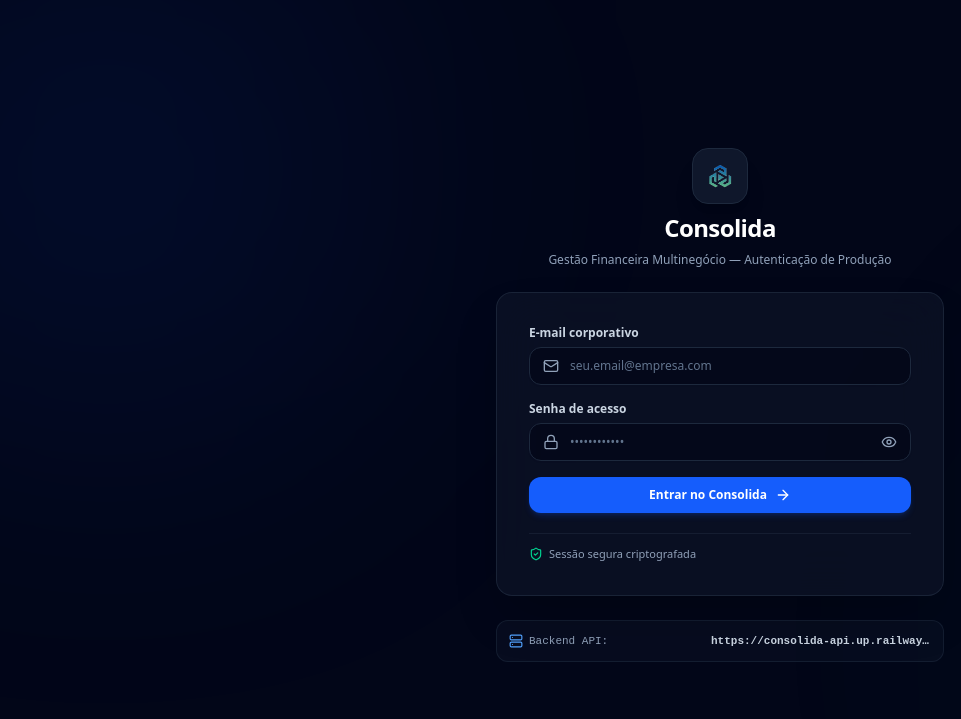
Auditoria Técnica — Testes de Cenários Negativos (Seção 6) › 4. Cenário Negativo: API Indisponível (erro de rede/timeout) deve exibir feedback amigável sem quebrar
Type "user@empresa.com" into the field with placeholder "seu.email@empresa.com" at (720, 366), box x1=529 y1=347 x2=911 y2=385
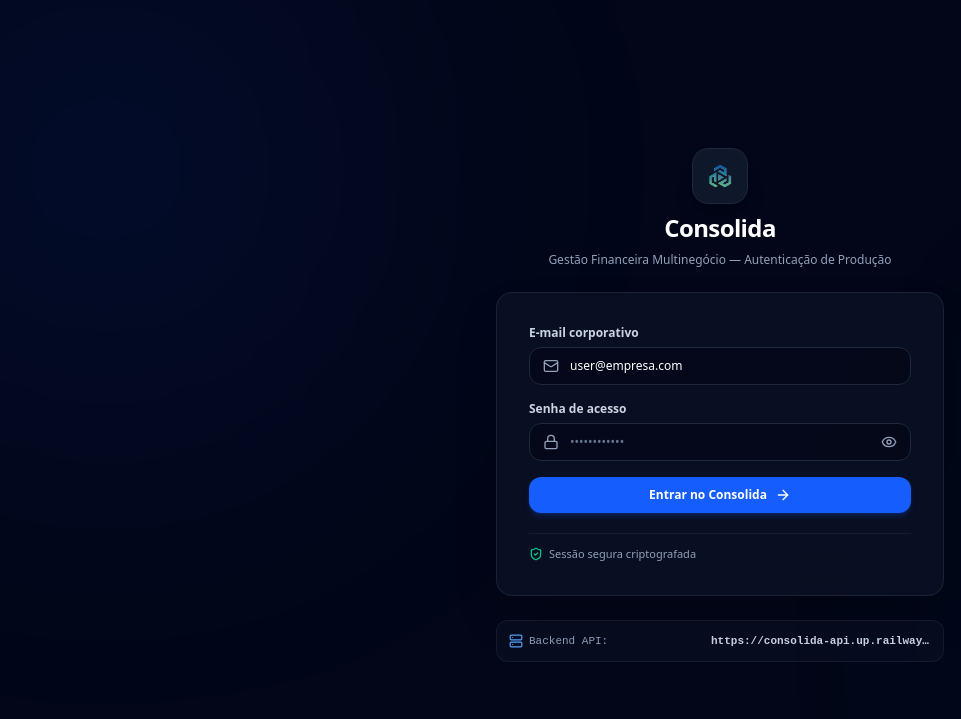
Type "senha123" into the password field with placeholder "••••••••••••" at (720, 442), box x1=529 y1=423 x2=911 y2=461
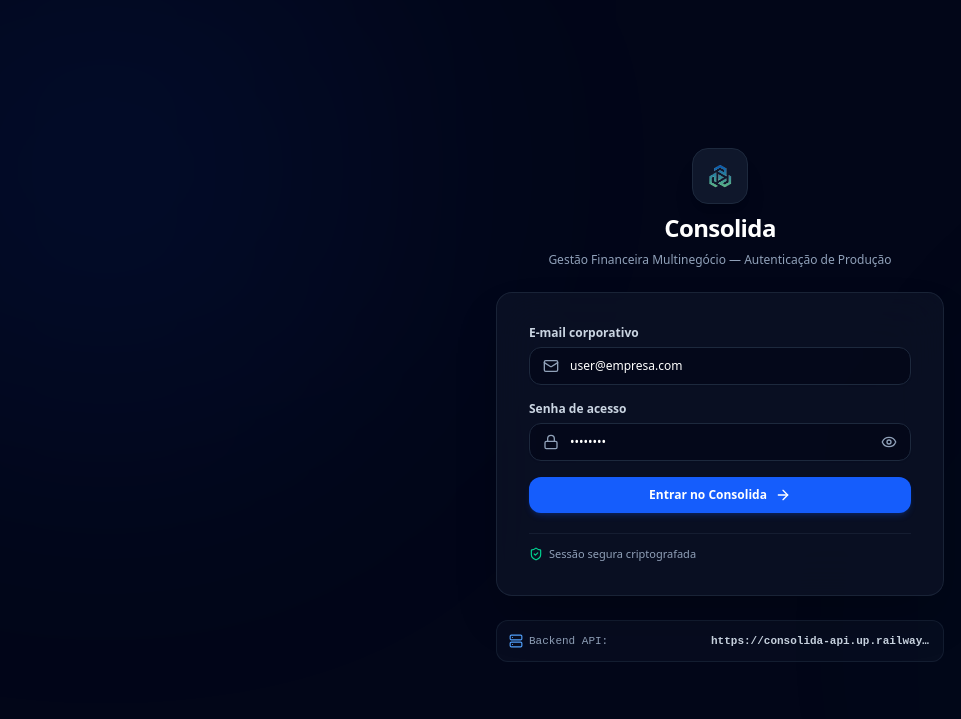
Click the button "Entrar no Consolida" at (720, 495), box x1=529 y1=477 x2=911 y2=513
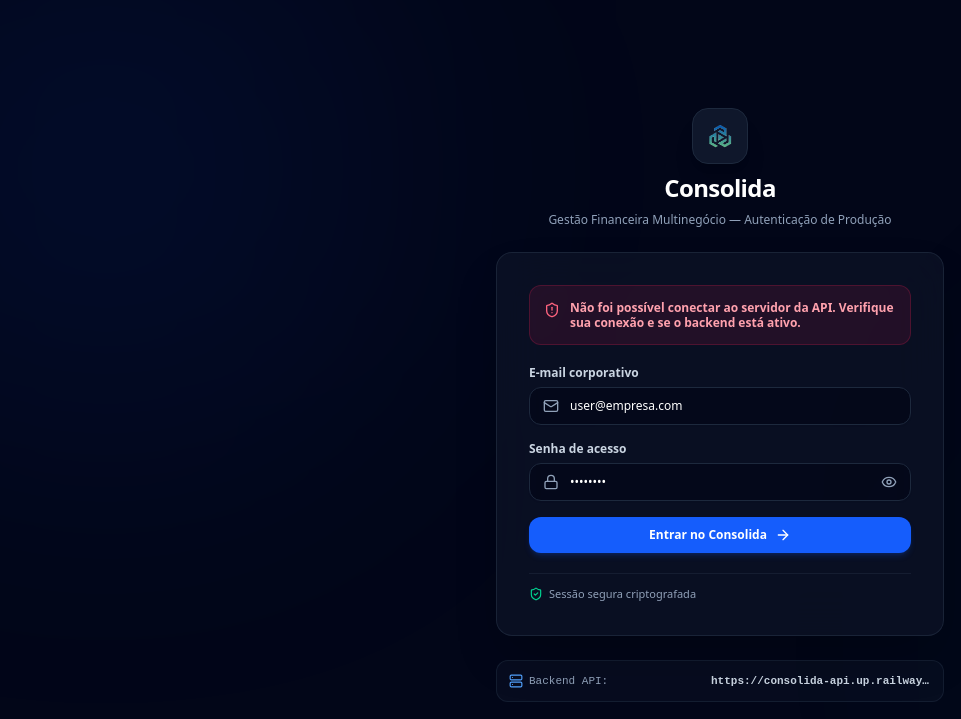
Expected: the text "Não foi possível conectar ao servidor da API" is shown, x1=570 y1=299 x2=894 y2=331
